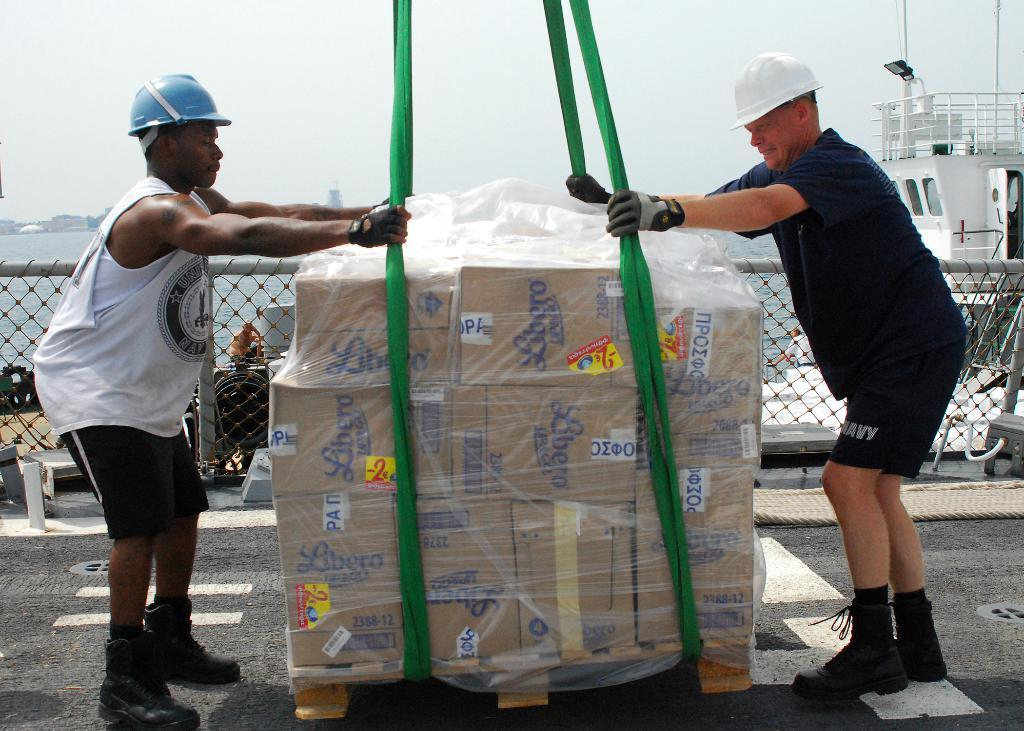helmet: (128, 73, 232, 189), (730, 52, 824, 170)
